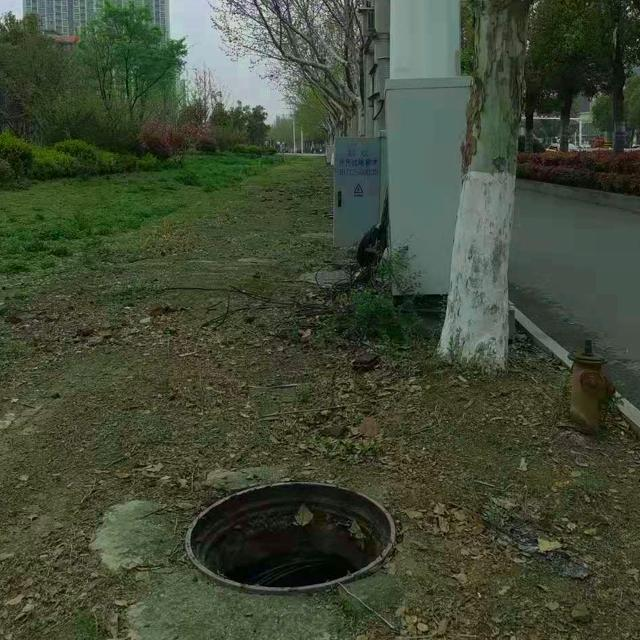lose: (183, 478, 395, 593)
